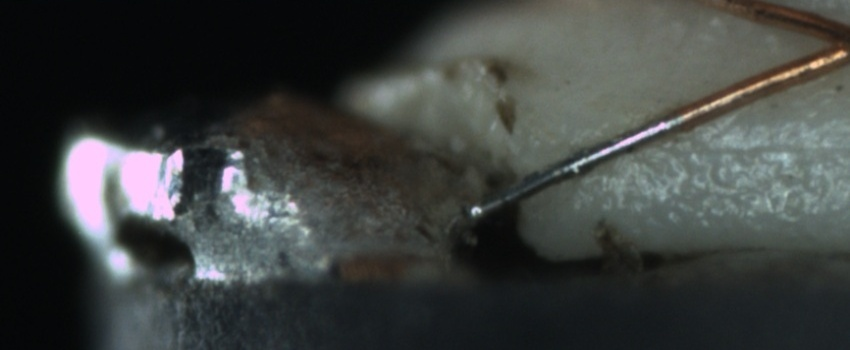CL: (801, 13, 849, 73)
DL: (668, 112, 849, 176)
TS: (471, 110, 683, 221)
